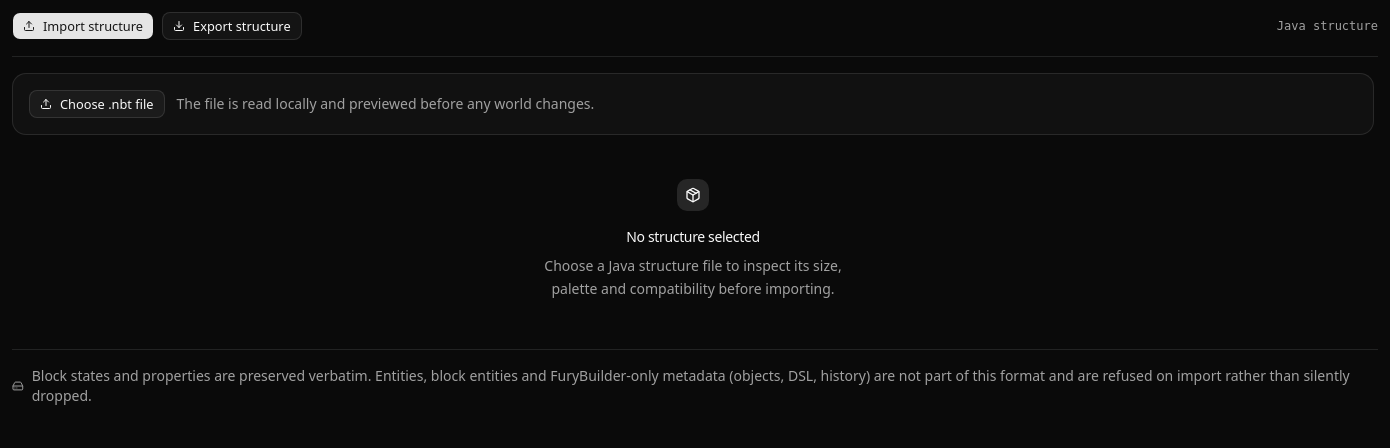
Test: structure exchange › never reuses a box selection from another dimension
Later steps or results of the test are not shown.
Click the button "Export structure" at (232, 26), box [162,12,302,40]
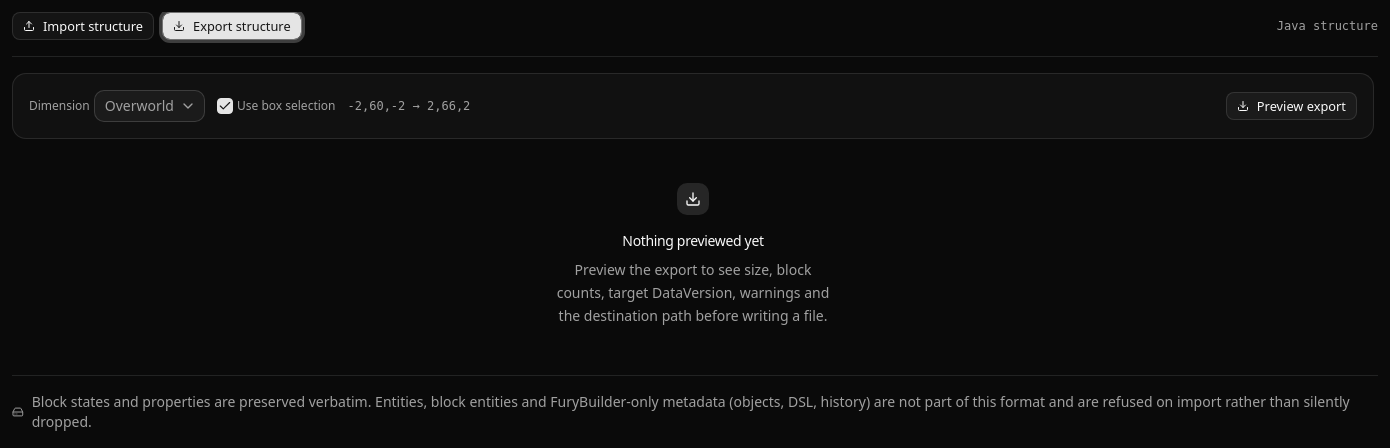
Now the checkbox named "Use box selection" is enabled, box [217,98,233,114]
Click the dropdown named "Export dimension" at (149, 106), box [94,90,205,122]
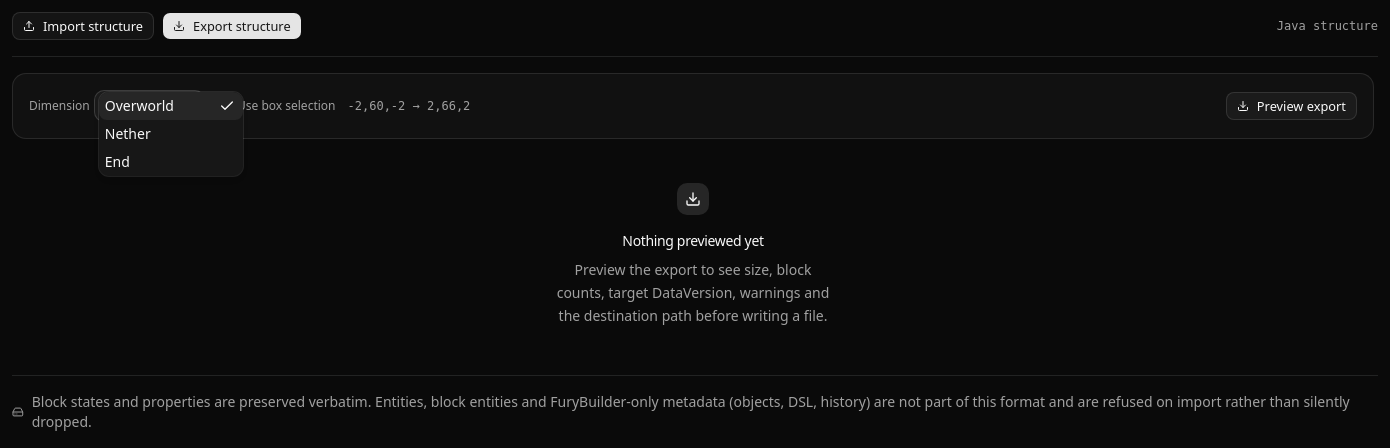
Click the option "Nether" at (128, 134), box [105,124,151,143]
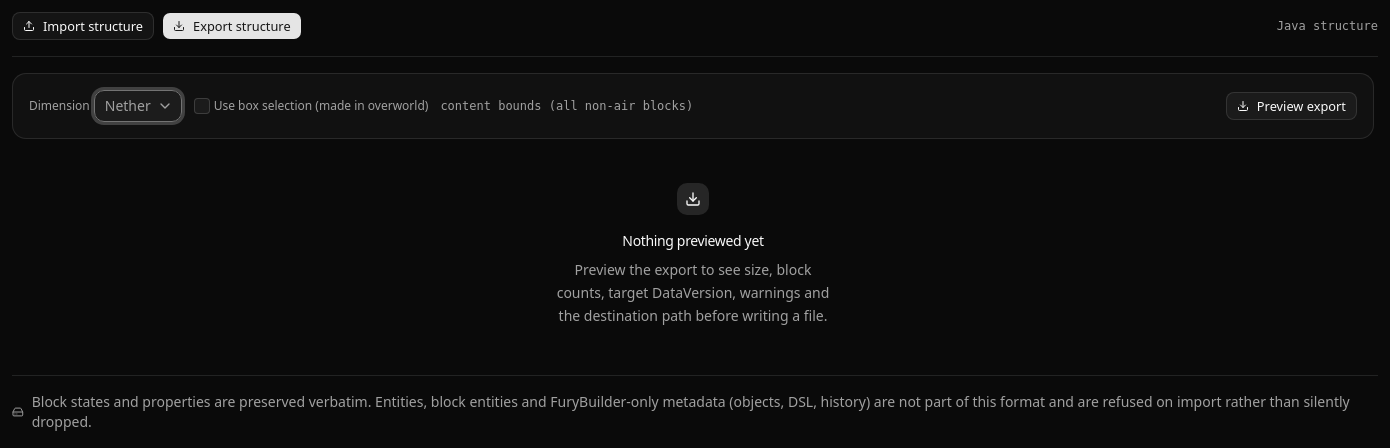
Now the checkbox "Use box selection (made in overworld)" is shown, box [194,98,428,114]
